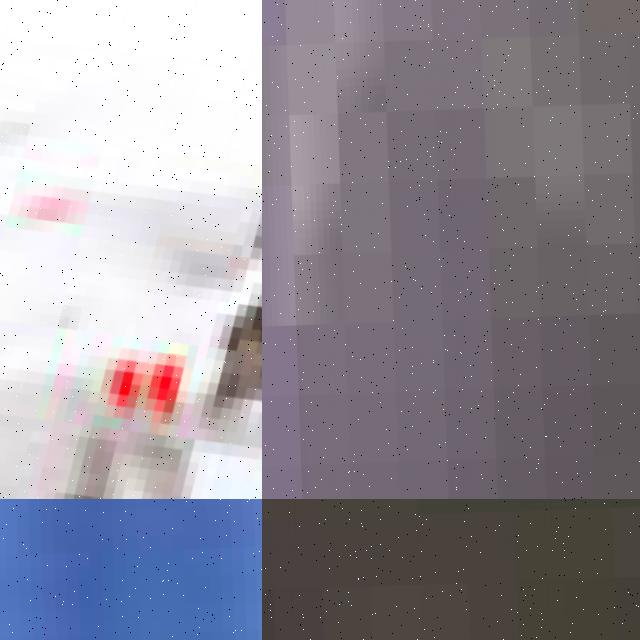drone: (0, 0, 262, 499)
